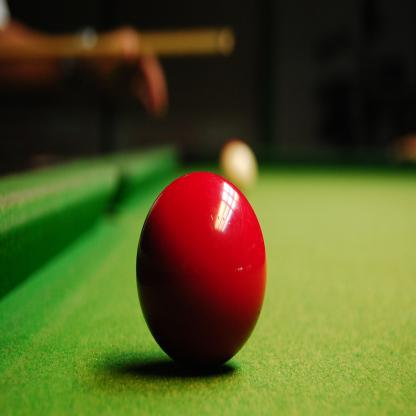Ball: (136, 171, 266, 374), (222, 138, 258, 187)
